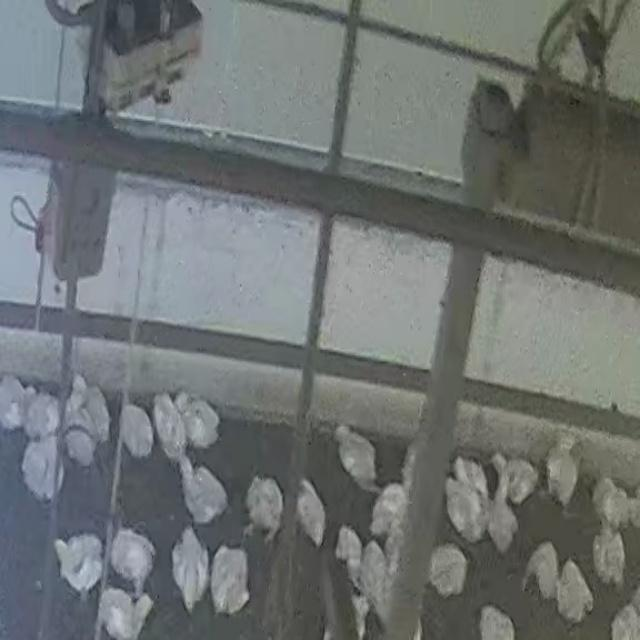chicken: (108, 525, 158, 598), (177, 456, 229, 526), (483, 462, 521, 551), (444, 471, 489, 545), (172, 526, 210, 613), (54, 531, 104, 595), (20, 437, 66, 504), (209, 543, 250, 616), (334, 416, 375, 488), (243, 474, 285, 544), (174, 391, 222, 452), (96, 585, 152, 637), (554, 556, 595, 623), (371, 482, 411, 550), (151, 392, 189, 462), (75, 384, 113, 450), (292, 472, 324, 550), (544, 441, 580, 509), (360, 537, 391, 615), (594, 476, 635, 534), (524, 541, 562, 600), (118, 403, 156, 461), (592, 526, 626, 588), (499, 455, 540, 506), (428, 544, 468, 596), (23, 391, 62, 443), (334, 525, 364, 580), (0, 373, 28, 428), (64, 426, 97, 468)
